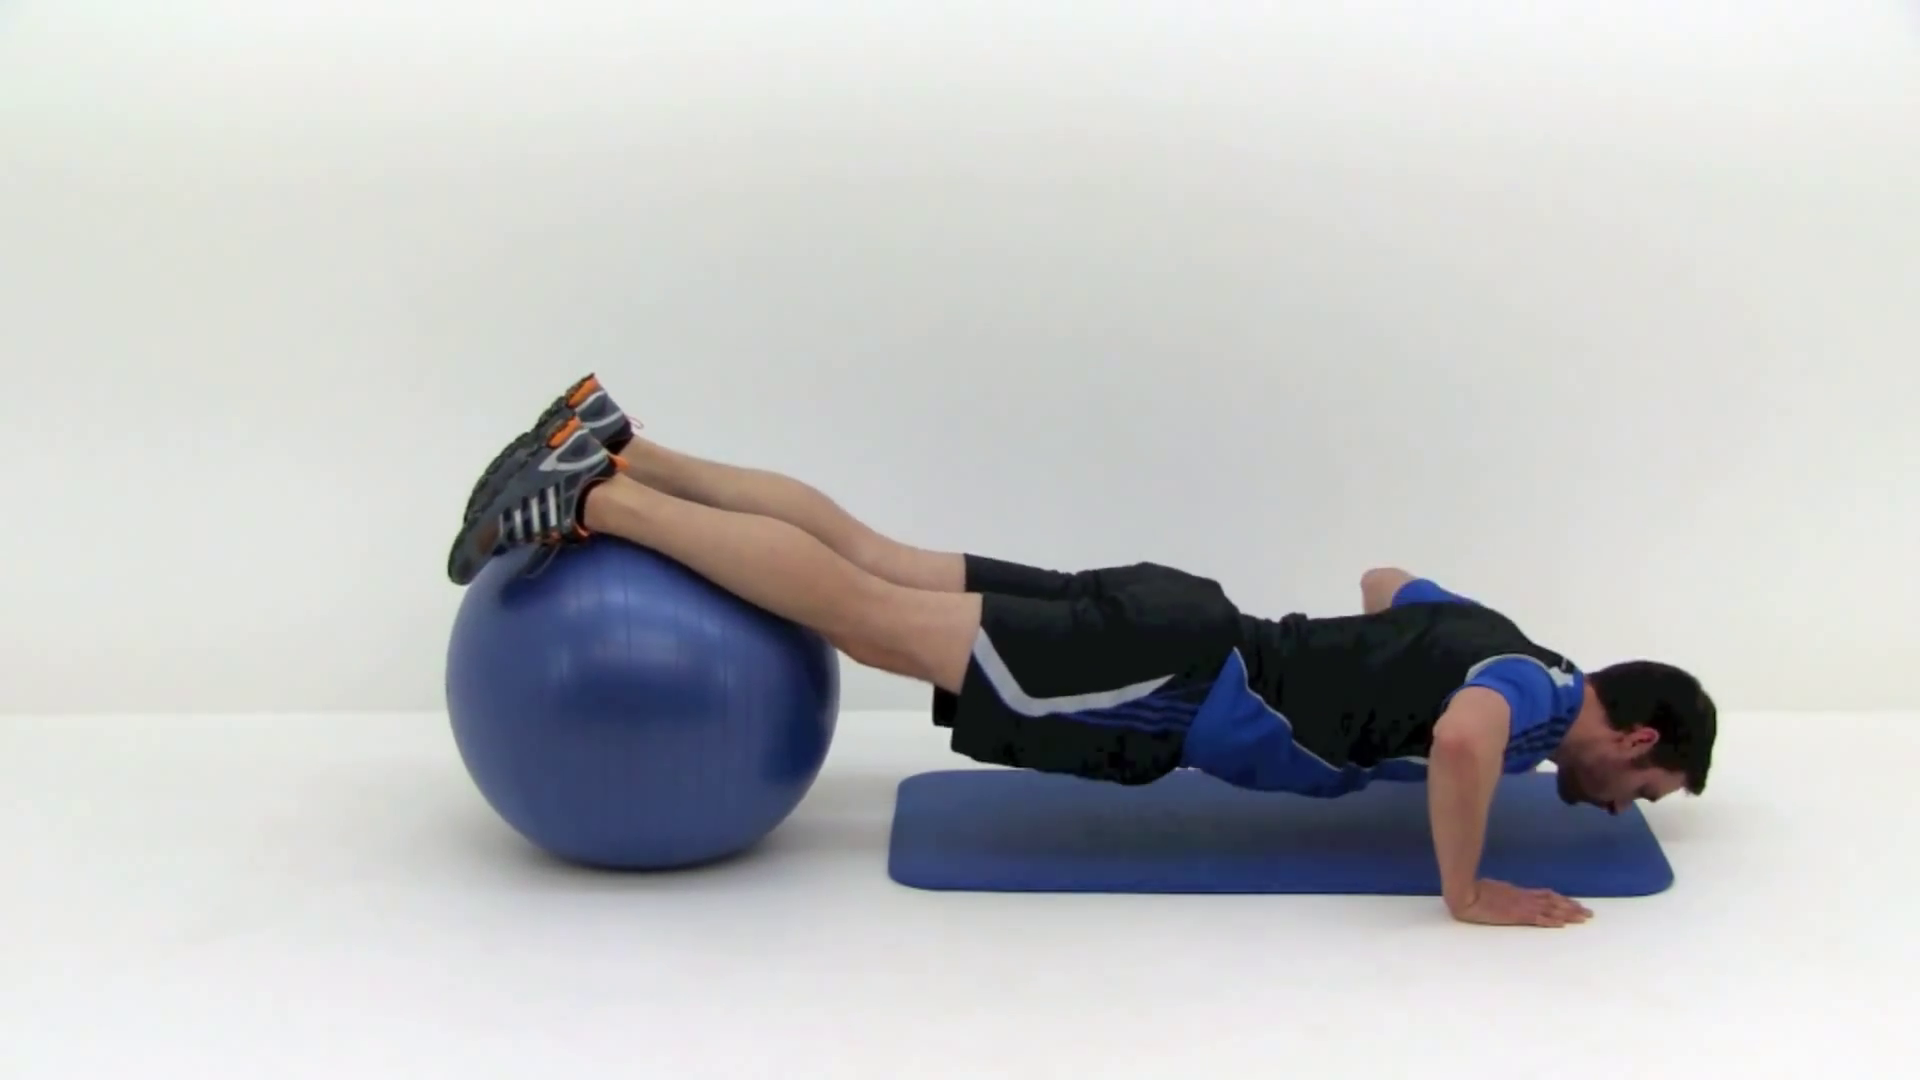yogaball: (435, 516, 847, 884)
